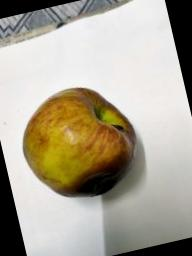Apple Overripe: (7, 74, 152, 224)
